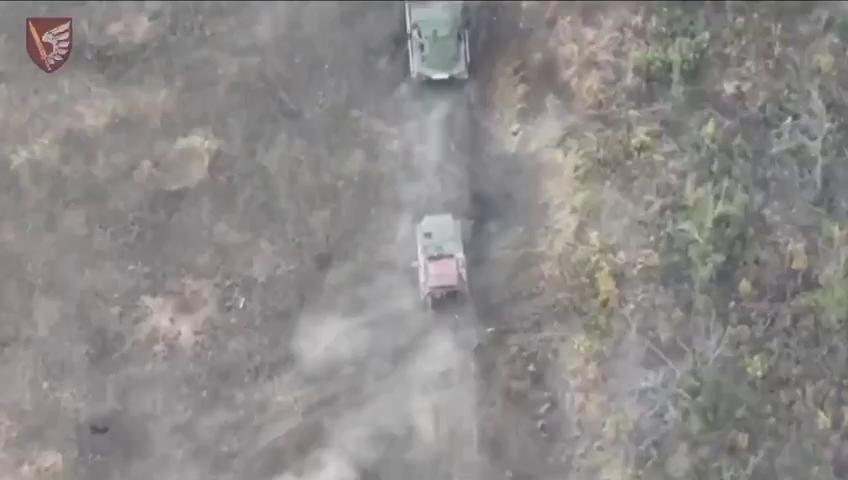tank: (411, 211, 477, 313), (401, 2, 472, 84)
